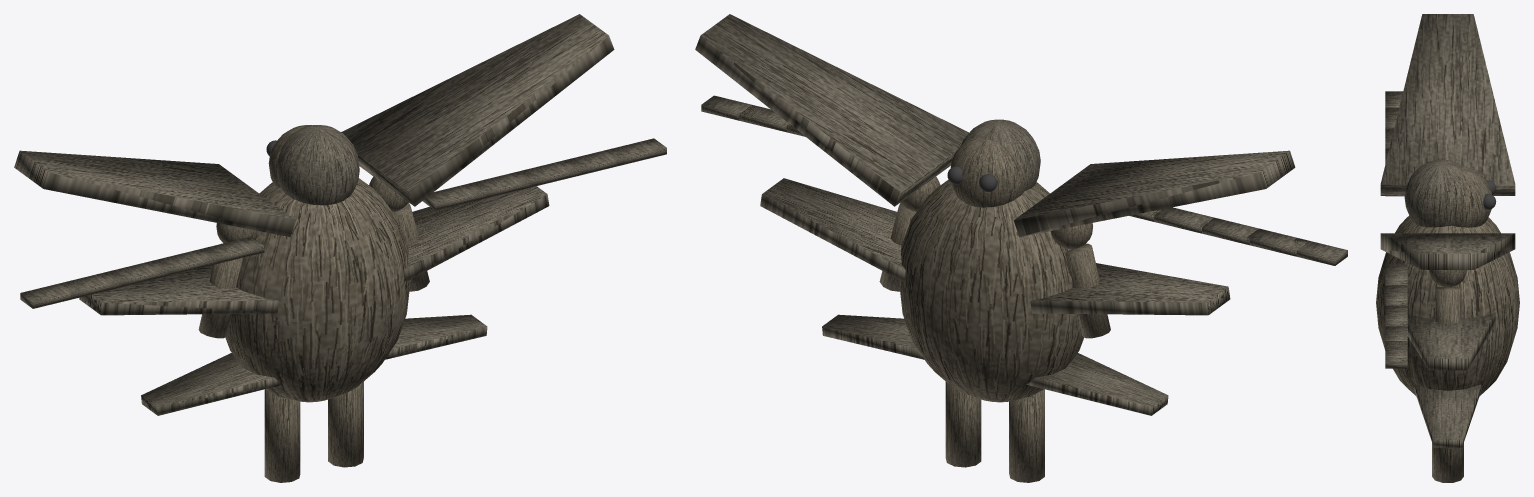
Rendered from ashen-seraph.glb.
3 renders of one model, left to right at view 1: azimuth 30°, elevation 25°; view 2: azimuth 150°, elevation 25°; view 3: azimuth 270°, elevation 25°, orthographic. The views are drawn at different scales.
Visible parts, largest first — view 1: Torso, WingHigh.001, WingHigh, WingMid.001, WingMid, HairStrands, WingLow, Leg, WingLow.001, Leg.001, Arm, Feather.005 (+10 smaller); view 2: Torso, WingHigh.001, WingHigh, WingMid.001, WingMid, WingLow, Head, Leg, Leg.001, WingLow.001, HairStrands, Arm (+8 smaller); view 3: WingHigh, Torso, WingHigh.001, WingMid.001, HairStrands, WingLow.001, Head, Leg.001, Arm.001, Feather.009, ShoulderJoint.001, Feather.005 (+6 smaller).
Boxes of the visible parts, bbox=[...] form: Torso: bbox=[225, 178, 410, 402]; WingHigh.001: bbox=[341, 14, 614, 206]; WingHigh: bbox=[14, 150, 295, 236]; WingMid.001: bbox=[403, 186, 549, 281]; WingMid: bbox=[79, 265, 278, 315]; HairStrands: bbox=[276, 125, 359, 205]; WingLow: bbox=[141, 353, 282, 415]; Leg: bbox=[264, 389, 300, 482]; WingLow.001: bbox=[384, 314, 487, 359]; Leg.001: bbox=[328, 381, 363, 467]; Arm: bbox=[198, 243, 242, 338]; Feather.005: bbox=[422, 182, 486, 210]; Torso: bbox=[899, 179, 1084, 402]; WingHigh.001: bbox=[695, 14, 968, 206]; WingHigh: bbox=[1014, 150, 1295, 237]; WingMid.001: bbox=[760, 178, 905, 281]; WingMid: bbox=[1030, 263, 1230, 315]; WingLow: bbox=[1026, 353, 1168, 415]; Head: bbox=[950, 137, 1026, 207]; Leg: bbox=[1009, 389, 1044, 482]; Leg.001: bbox=[945, 382, 981, 467]; WingLow.001: bbox=[822, 314, 924, 359]; HairStrands: bbox=[960, 119, 1040, 190]; Arm: bbox=[1065, 243, 1110, 338]; WingHigh: bbox=[1380, 14, 1515, 195]; Torso: bbox=[1376, 216, 1519, 395]; WingHigh.001: bbox=[1380, 233, 1515, 269]; WingMid.001: bbox=[1407, 312, 1495, 370]; HairStrands: bbox=[1404, 159, 1462, 227]; WingLow.001: bbox=[1414, 384, 1481, 447]; Head: bbox=[1451, 166, 1491, 227]; Leg.001: bbox=[1432, 443, 1463, 482]; Arm.001: bbox=[1435, 287, 1460, 323]; Feather.009: bbox=[1385, 341, 1407, 368]; ShoulderJoint.001: bbox=[1429, 270, 1466, 287]; Feather.005: bbox=[1385, 263, 1407, 285].
Size of the model in its own units: 2 by 1.13 by 0.448.
4 materials, 3 textured.
